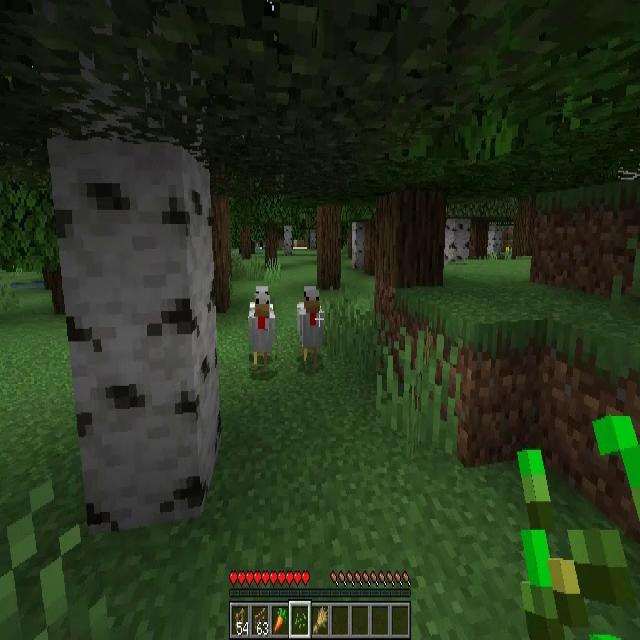duck: (296, 288, 324, 362), (249, 295, 275, 371)
